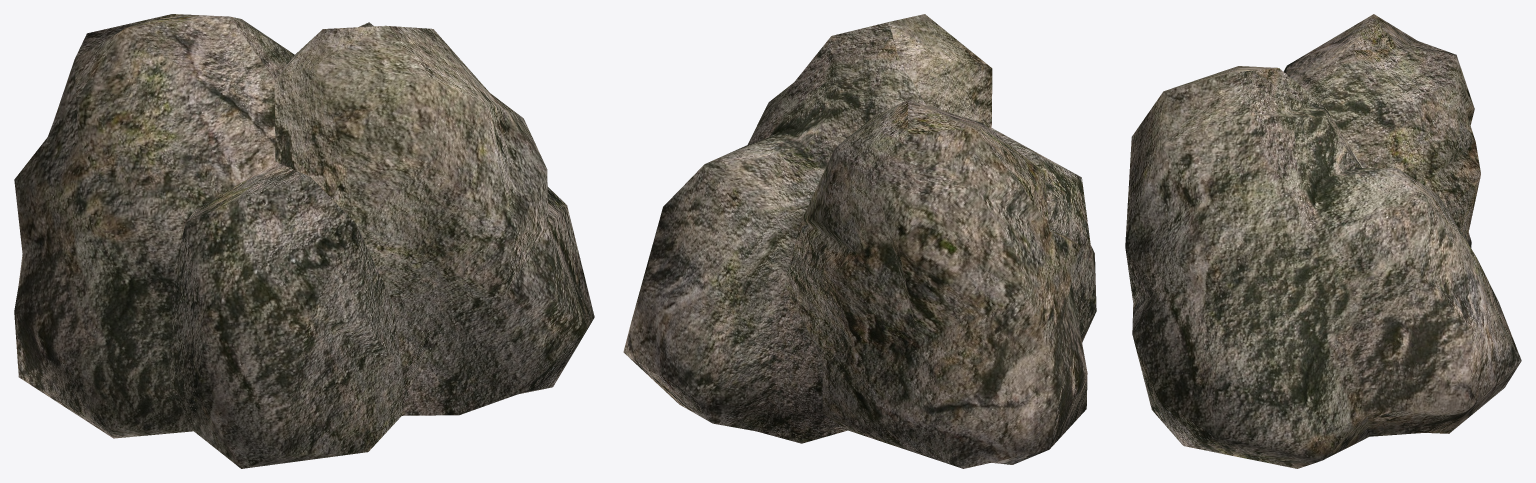
Rendered from BigRock3.glb.
The picture shows the model from 3 angles, left to right: view 1: azimuth 30°, elevation 25°; view 2: azimuth 150°, elevation 25°; view 3: azimuth 270°, elevation 25°; orthographic projection. The views are drawn at different scales.
Visible parts, largest first — view 1: BigRockC; view 2: BigRockC; view 3: BigRockC.
Boxes of the visible parts, bbox=[...] form: BigRockC: bbox=[14, 14, 594, 468]; BigRockC: bbox=[623, 14, 1096, 468]; BigRockC: bbox=[1125, 14, 1521, 468].
Size of the model in its own units: 6.27 by 4.64 by 5.08.
Materials: 1 (1 with a texture image).
